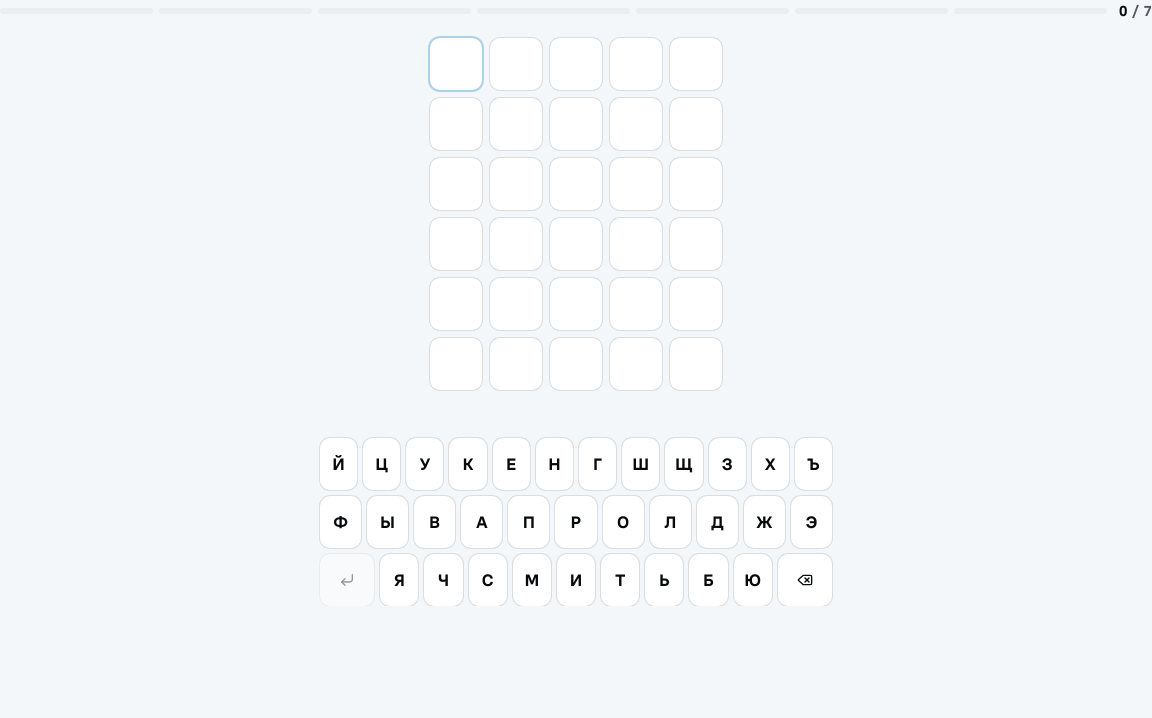
Scenario: BukovkiGame › shows the secret and matching listings once the round ends
The image size is (1152, 718).
Click the button "д": coordinates (717, 522) [697,496,738,548]
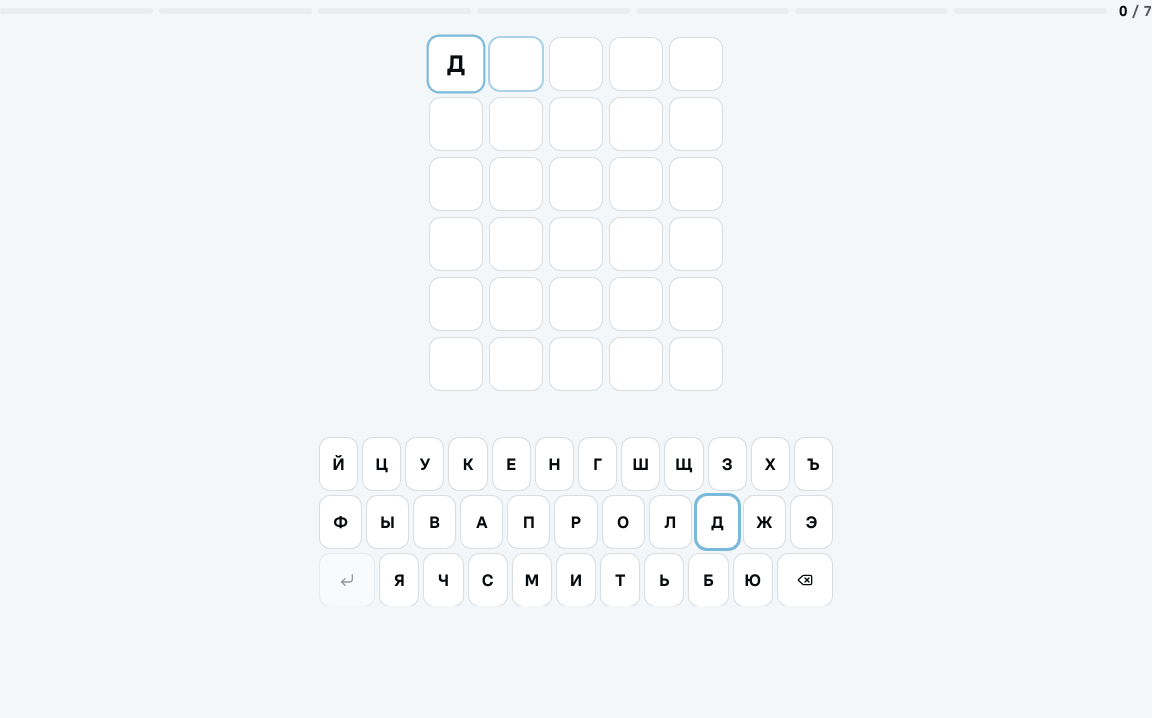
Click the button "и": coordinates (576, 580) [557,554,595,606]
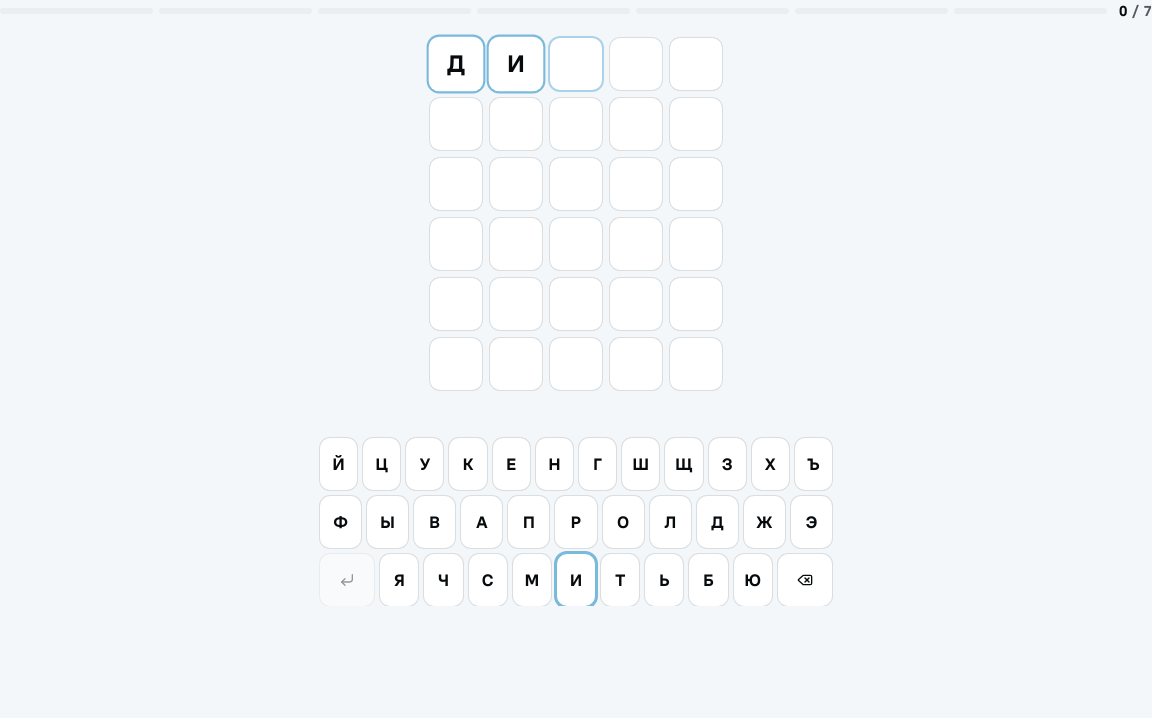
Click the button "в": coordinates (435, 522) [414,496,455,548]
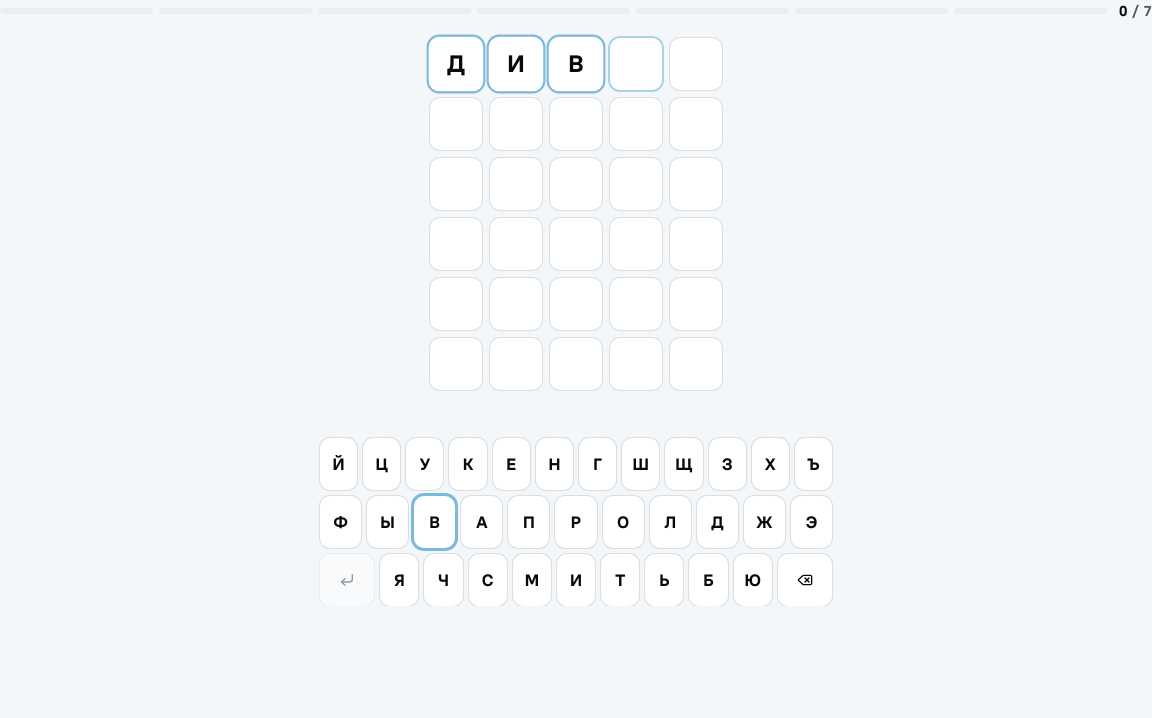
Click the button "а": coordinates (482, 522) [461,496,502,548]
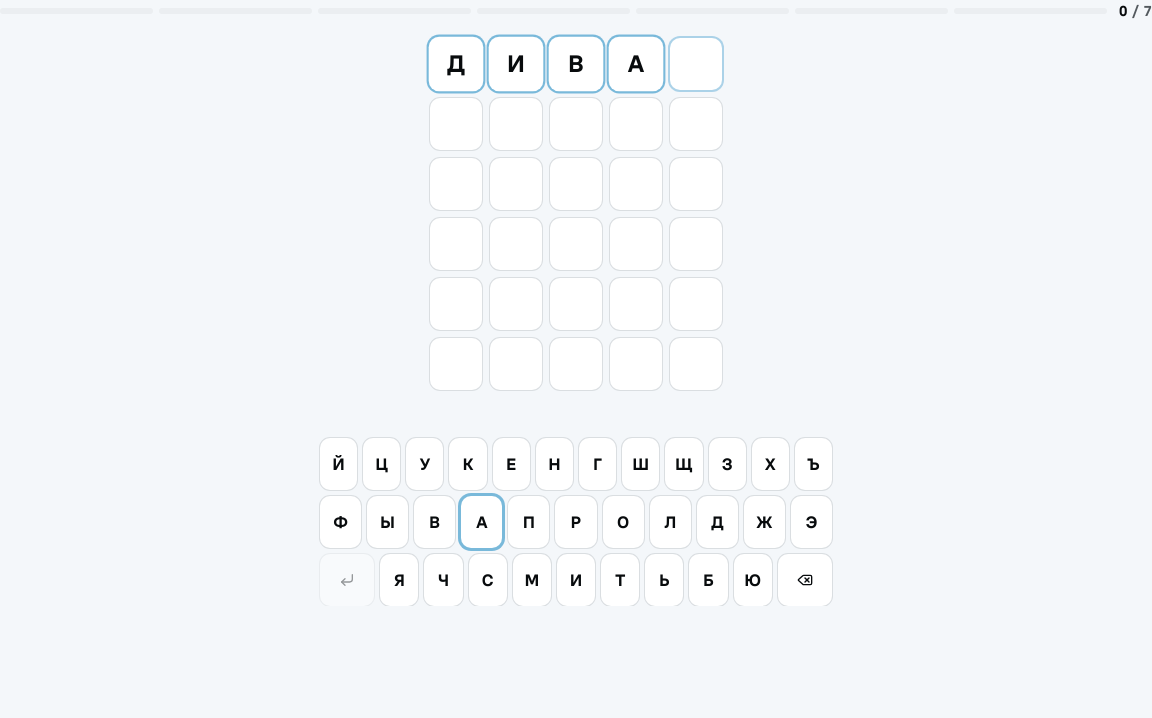
Click the button "н": coordinates (554, 464) [536,438,573,490]
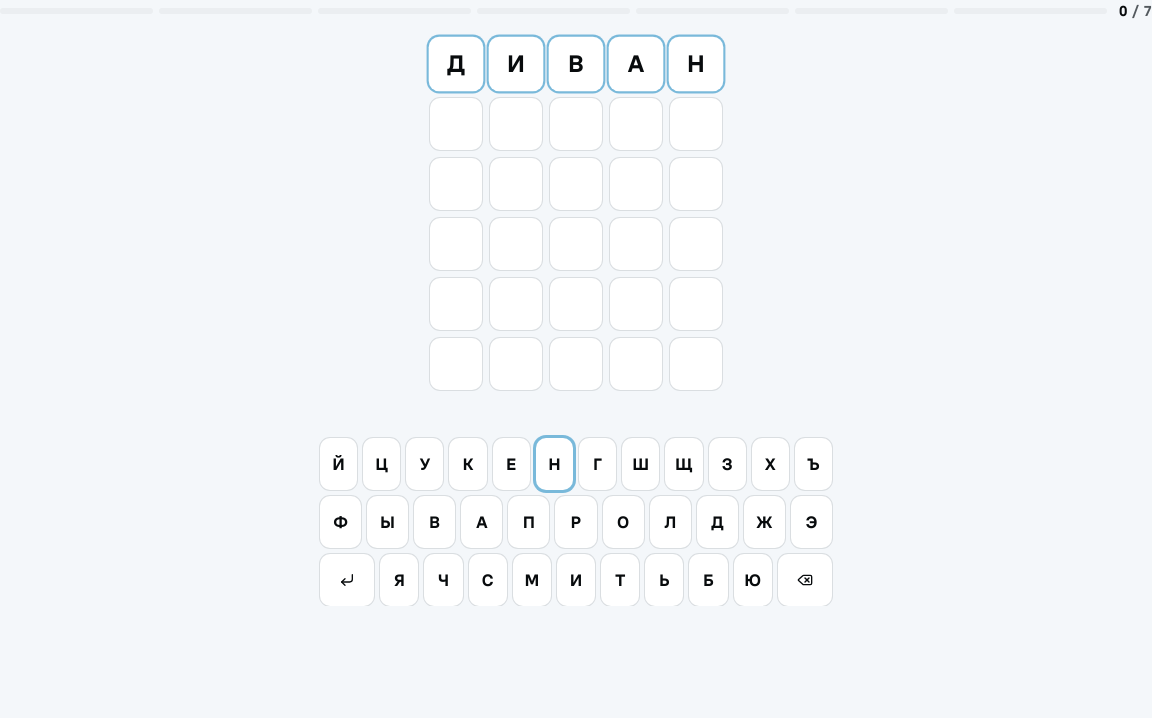
Click the button named "Проверить": coordinates (347, 580) [320,554,374,606]
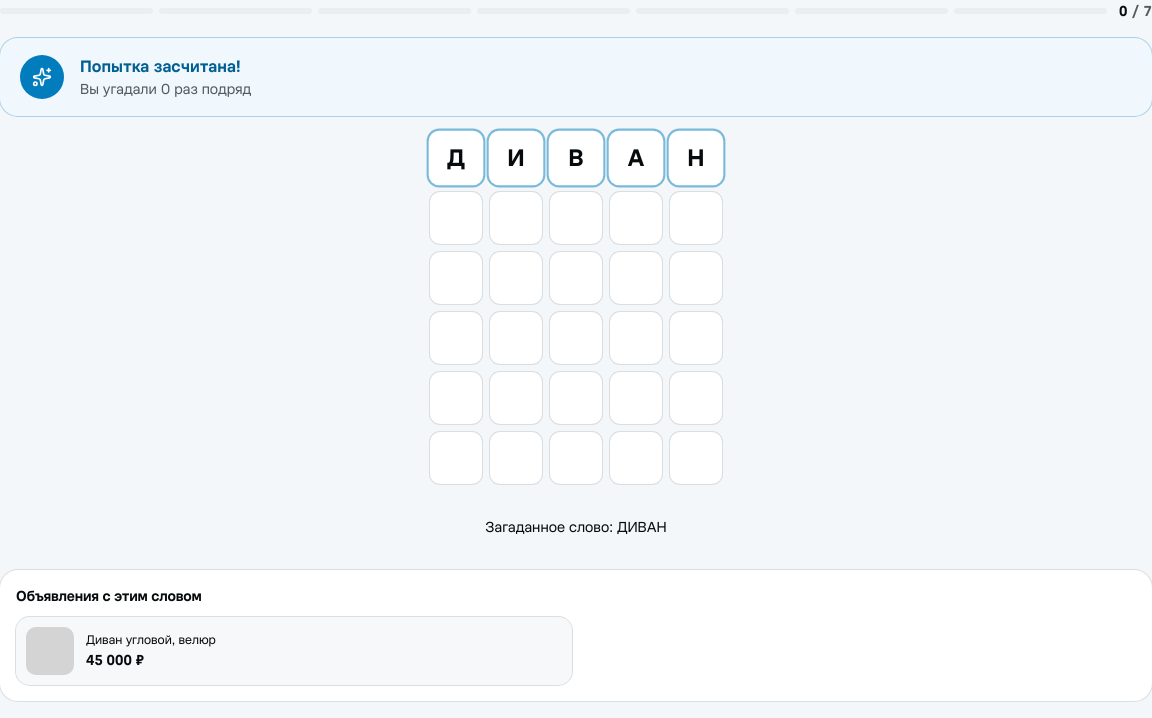
Result: the text "Загаданное слово: ДИВАН" is shown at [485,517,667,536]
